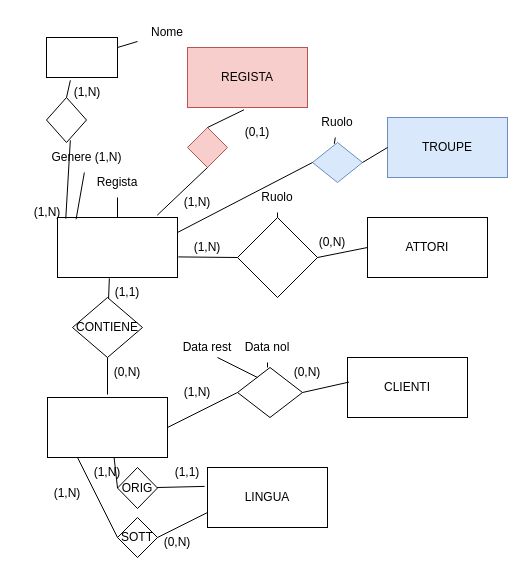
Some shapes in this 525 by 575 pixel diagram are drawn without their labels. The centre of each missing label's shape, as x and y in pixels:
"DVD" belongs at (x=107, y=427).
"FILM" belongs at (x=117, y=247).
"GENERE" belongs at (x=82, y=57).
"RECITA" belongs at (x=277, y=257).
